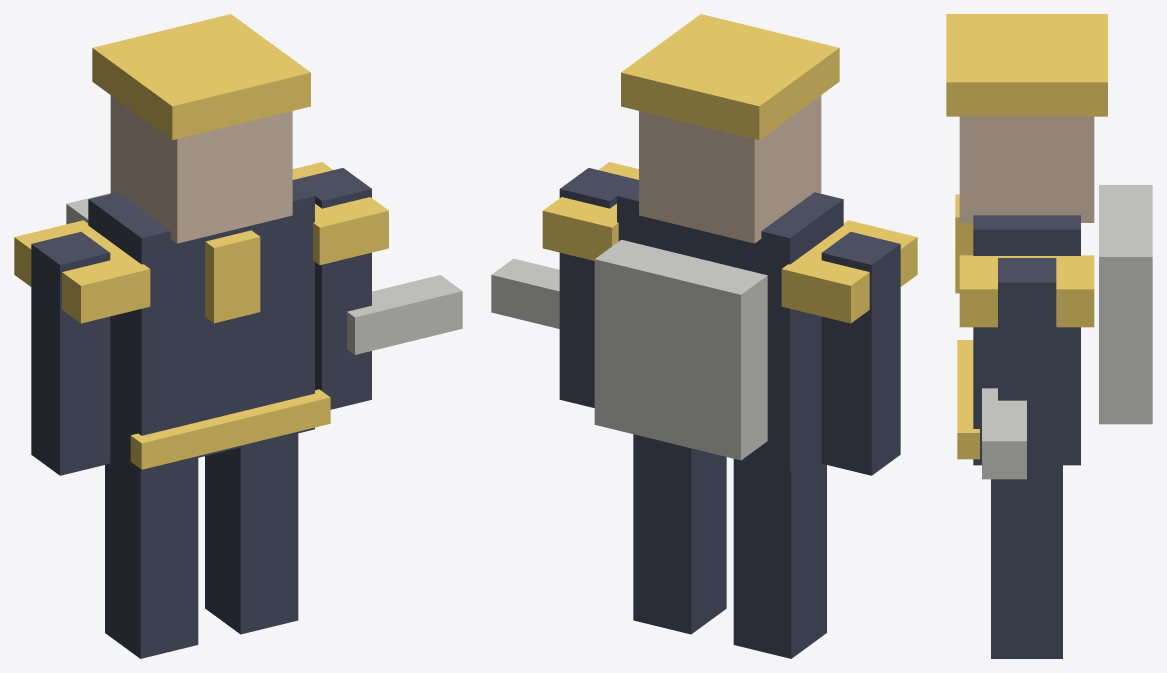
File: 19_vexa_ironwake_navigator_under_fallback.glb
3 renders of one model, left to right at view 1: azimuth 30°, elevation 25°; view 2: azimuth 150°, elevation 25°; view 3: azimuth 270°, elevation 25°, orthographic.
Visible parts, largest first — view 1: Vexa Ironwake, Navigator under Fallback; view 2: Vexa Ironwake, Navigator under Fallback; view 3: Vexa Ironwake, Navigator under Fallback.
Part boxes in pixels (<box>): Vexa Ironwake, Navigator under Fallback: <box>14,14,462,658</box>; Vexa Ironwake, Navigator under Fallback: <box>491,14,917,658</box>; Vexa Ironwake, Navigator under Fallback: <box>946,14,1152,658</box>.
Bounding box in the file's own units: 1.1 × 1.5 × 0.4916.
